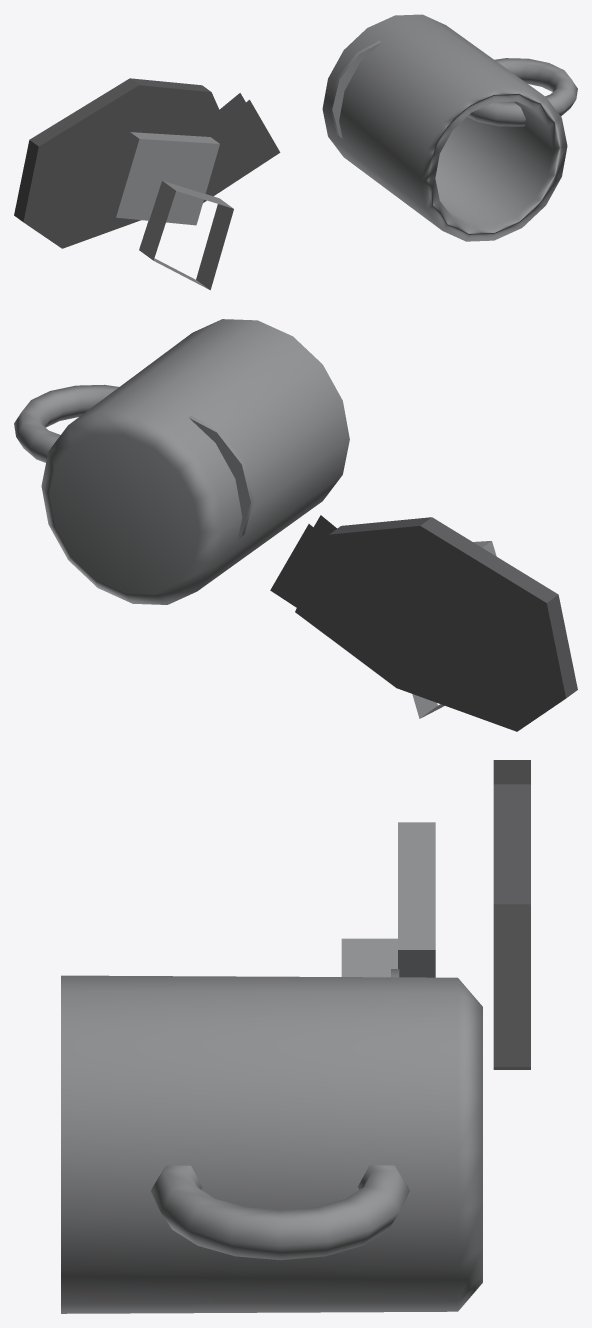
The picture shows the model from 3 angles, top to bottom: view 1: azimuth 30°, elevation 25°; view 2: azimuth 150°, elevation 25°; view 3: azimuth 270°, elevation 25°; orthographic projection. The views are drawn at different scales.
Bounding box in the file's own units: 0.5885 × 0.231 × 0.243.
